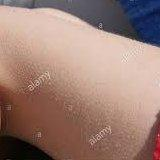Goosebumps: (0, 6, 159, 159)
